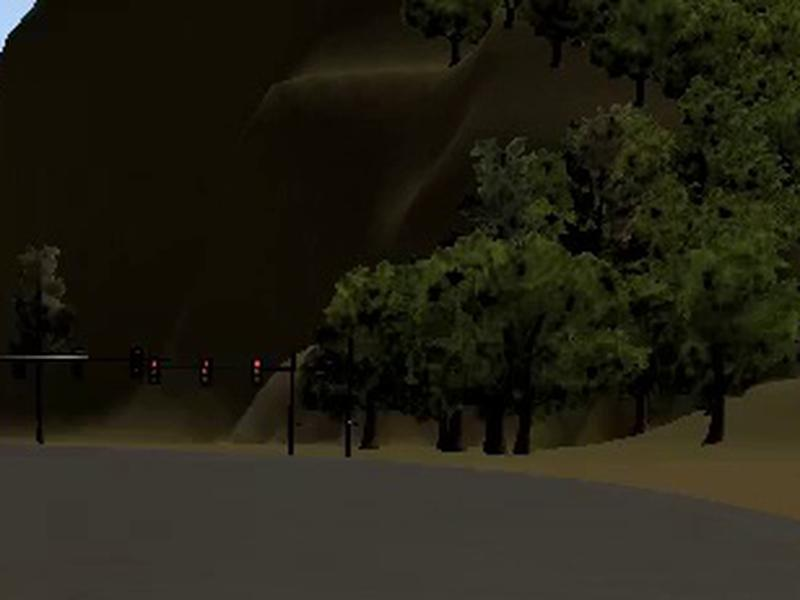Red: (251, 356, 265, 388), (199, 357, 213, 388), (149, 355, 161, 386)
